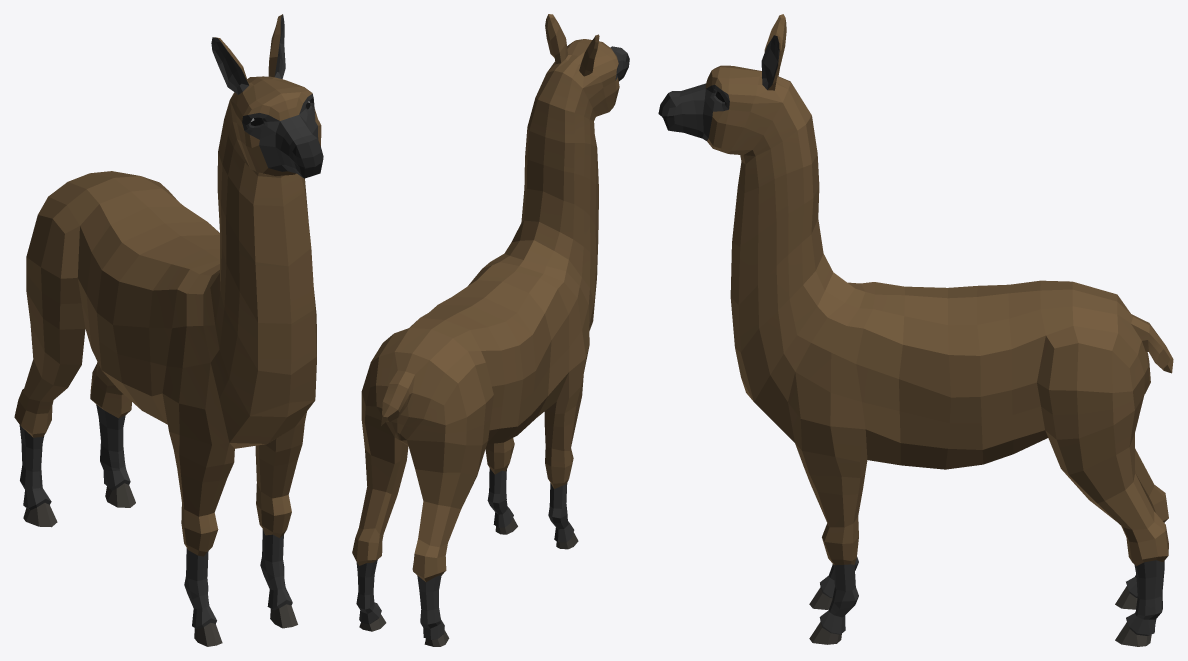
File: llama.glb
The picture shows the model from 3 angles, left to right: view 1: azimuth 30°, elevation 25°; view 2: azimuth 150°, elevation 25°; view 3: azimuth 270°, elevation 25°; orthographic projection. The views are drawn at different scales.
Parts seen in each view (by area): view 1: Llama; view 2: Llama; view 3: Llama.
Boxes of the visible parts, x1=… form: Llama: x1=14, y1=14, x2=323, y2=646; Llama: x1=352, y1=14, x2=629, y2=646; Llama: x1=658, y1=14, x2=1173, y2=646.
Bounding box in the file's own units: 1.27 × 5.43 × 4.28.
